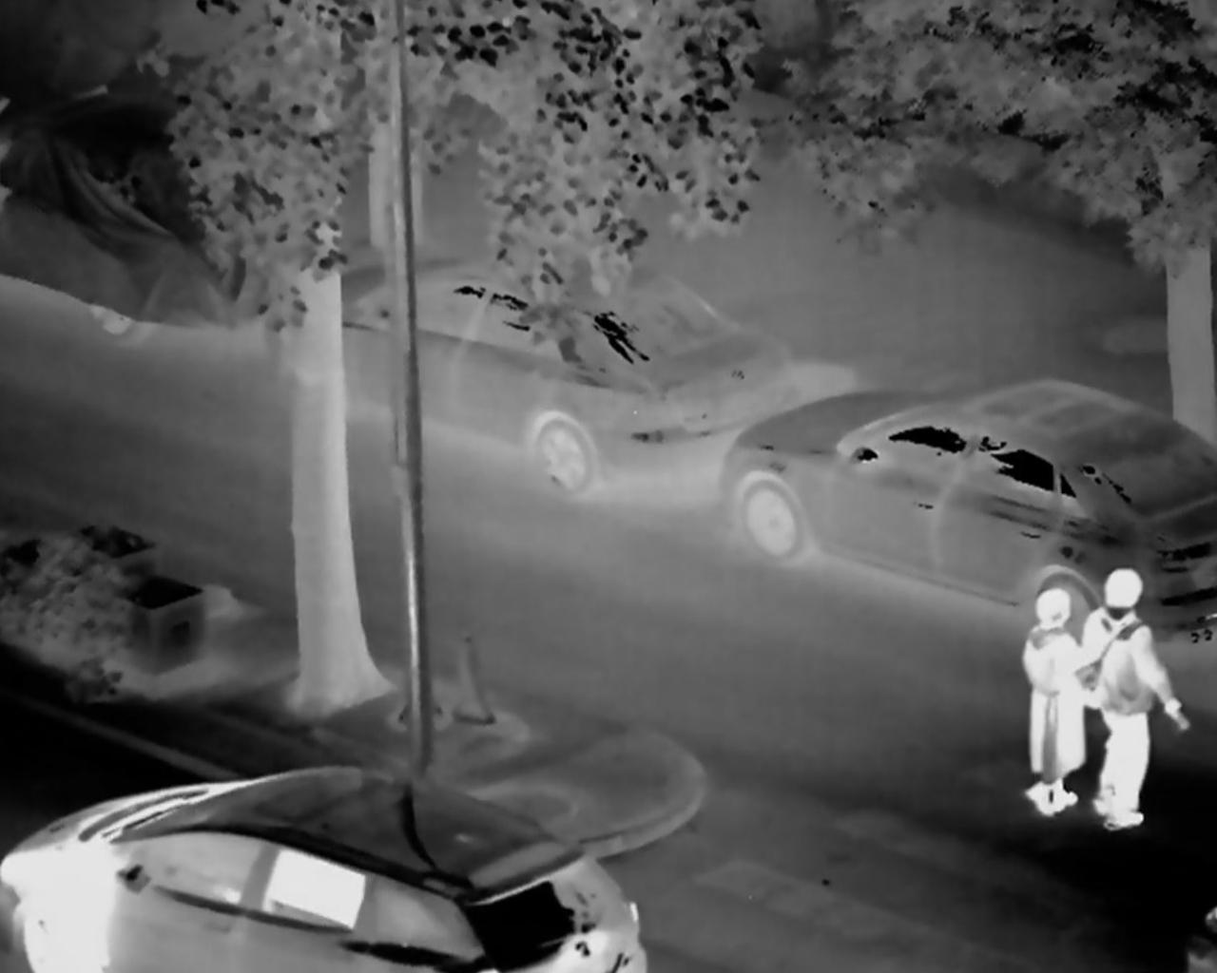person: (1079, 560, 1188, 838), (1010, 586, 1092, 824)
